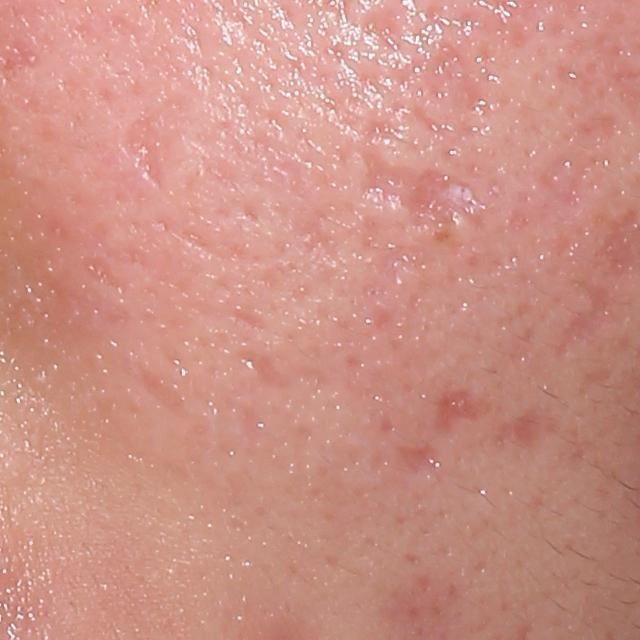atrophic_scar: (327, 143, 526, 245), (111, 91, 168, 195), (555, 280, 610, 366), (442, 383, 504, 448), (172, 224, 248, 268), (131, 364, 193, 416), (493, 406, 558, 454), (357, 6, 413, 61), (237, 349, 298, 388), (392, 441, 444, 482)
